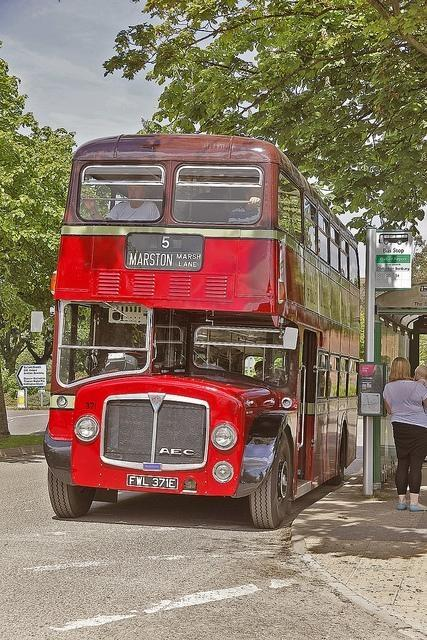bus: (40, 131, 364, 528)
